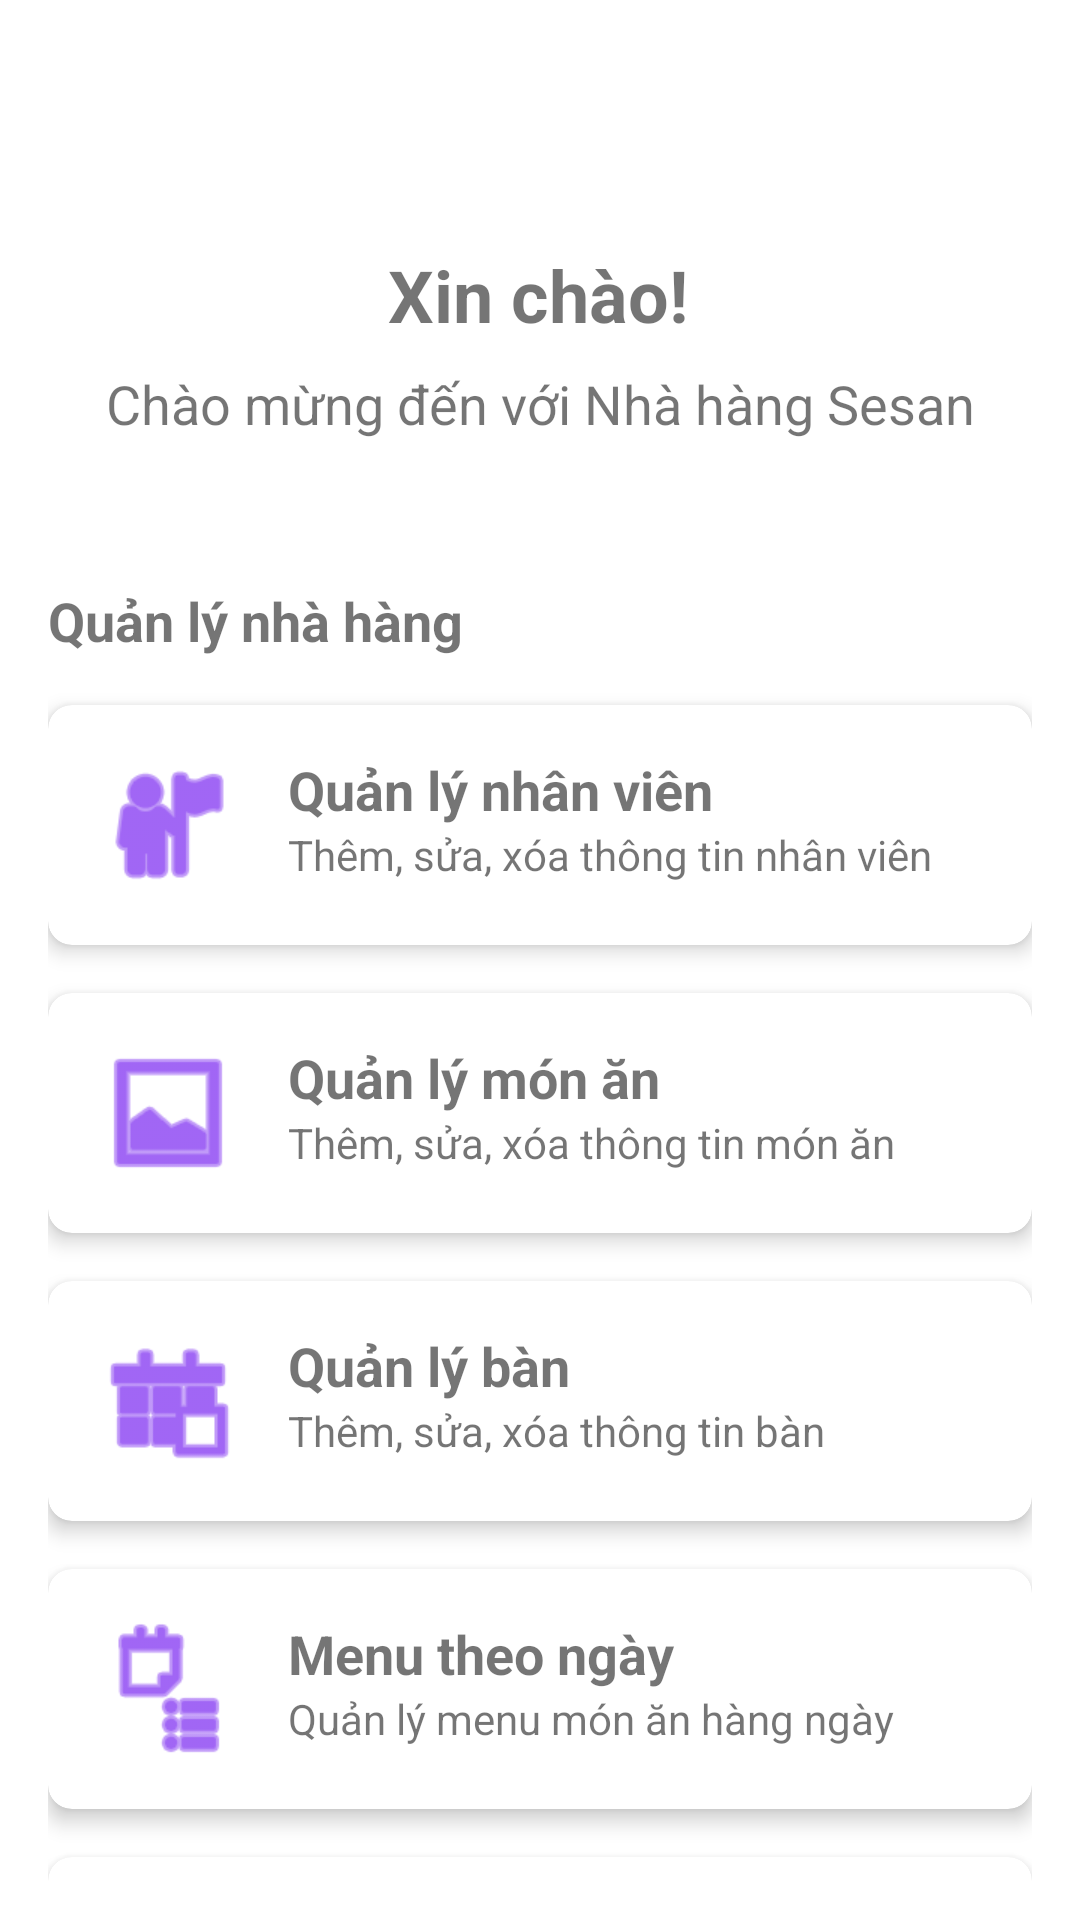

Point at icon controls on the screen. Image size 1080*1920, points as (x=x, y=y).
agenda: (x=168, y=1688)
gallery: (x=168, y=1113)
myplaces: (x=169, y=825)
today: (x=169, y=1403)
